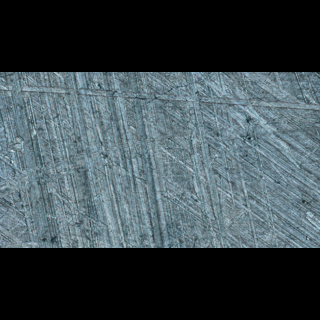d: (0, 109, 319, 201), (157, 71, 231, 247), (0, 76, 319, 114)
